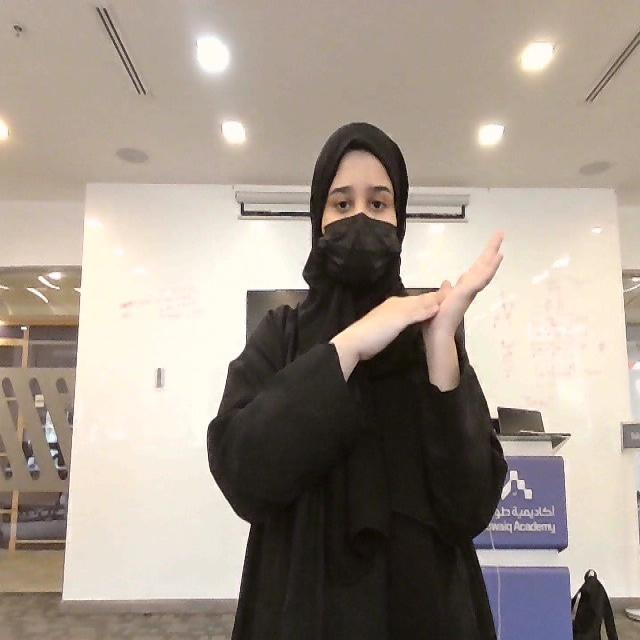complaint: (334, 226, 507, 389)
